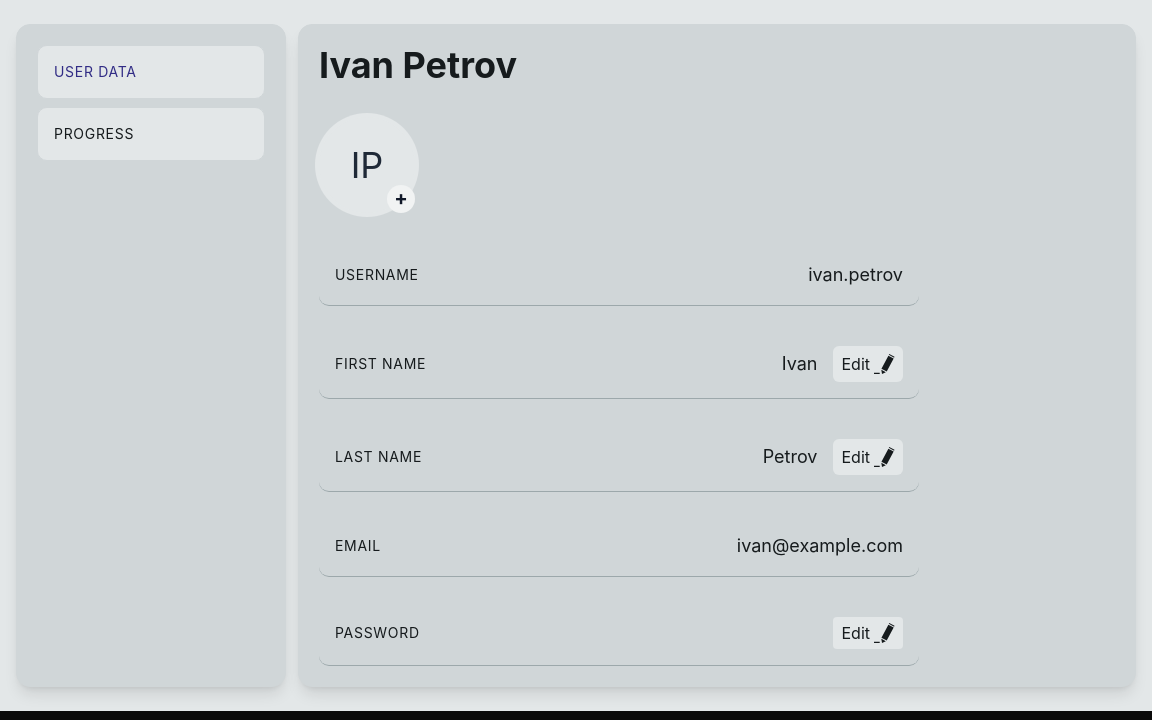
Scenario: switches to progress tab
The image size is (1152, 720).
Click the button "Progress". click: (151, 134)
box: [37,107,265,161]
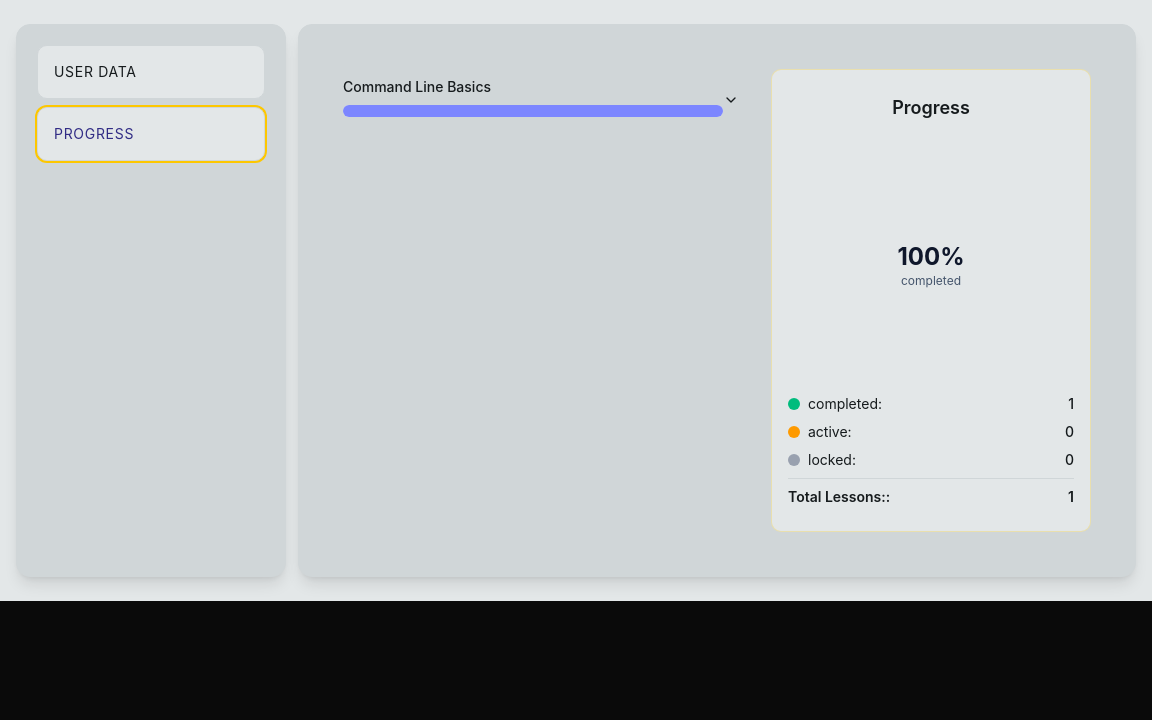
Expected: the heading "Command Line Basics" is shown, [343,78,491,95]
